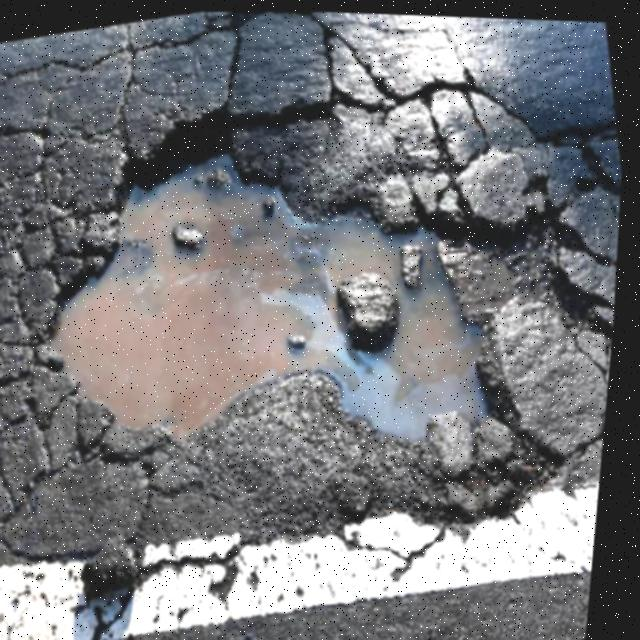Pothole: (0, 45, 565, 544)
